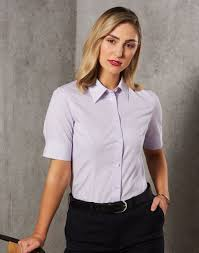F_belt: (64, 185, 150, 212)
F_shirt: (34, 77, 175, 198)
